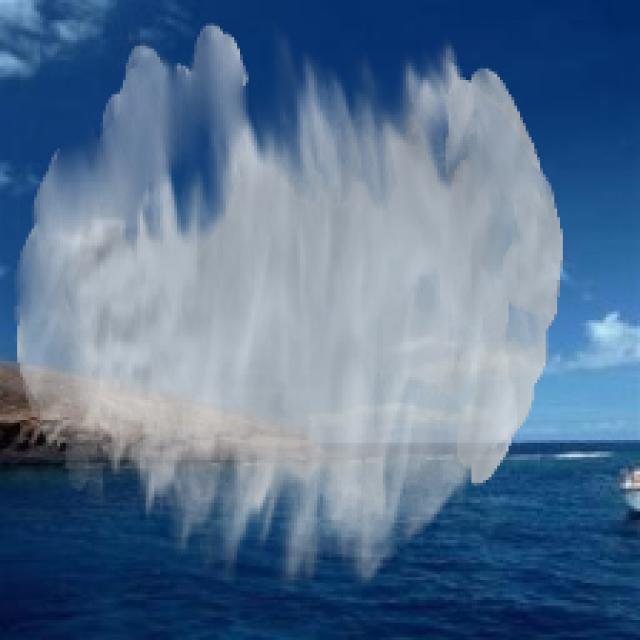Smoke: (14, 22, 563, 588)
